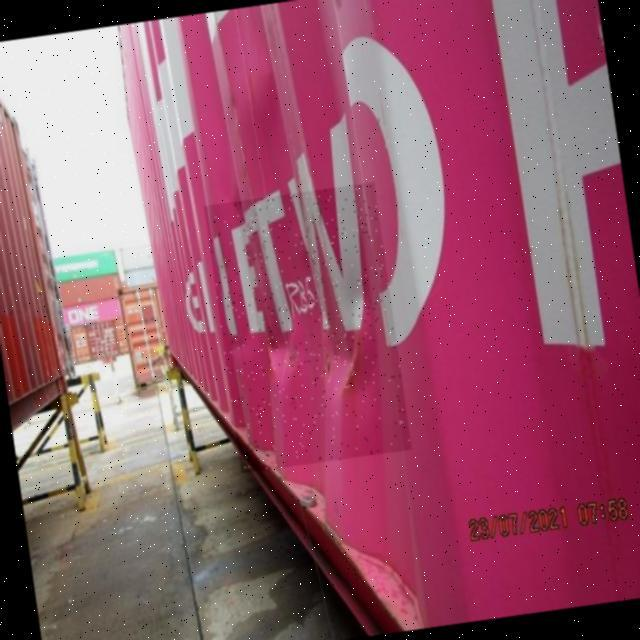Dent: (204, 183, 412, 474)
